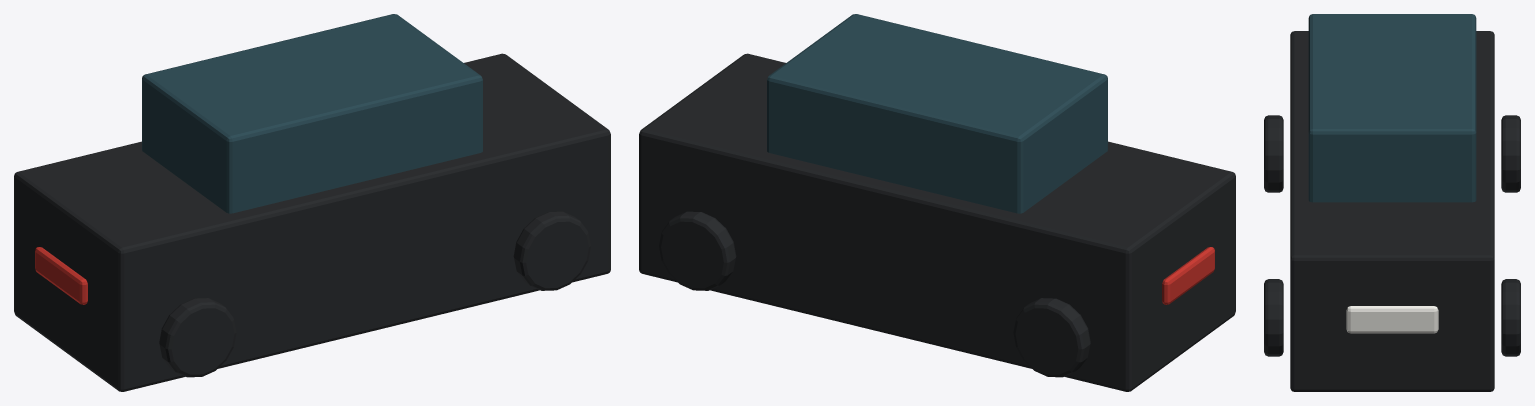
The model's file is Vehicle_019.glb.
3 views of the same model, side by side, from view 1: azimuth 30°, elevation 25°; view 2: azimuth 150°, elevation 25°; view 3: azimuth 270°, elevation 25° (orthographic). The views are drawn at different scales.
Visible parts, largest first — view 1: Vehicle_019; view 2: Vehicle_019; view 3: Vehicle_019.
Boxes of the visible parts, box(x1,y1,x2,y2) form: Vehicle_019: box(14, 14, 610, 391); Vehicle_019: box(639, 14, 1235, 391); Vehicle_019: box(1264, 14, 1520, 391).
Bounding box in the file's own units: 5.18 × 2.14 × 2.38.
